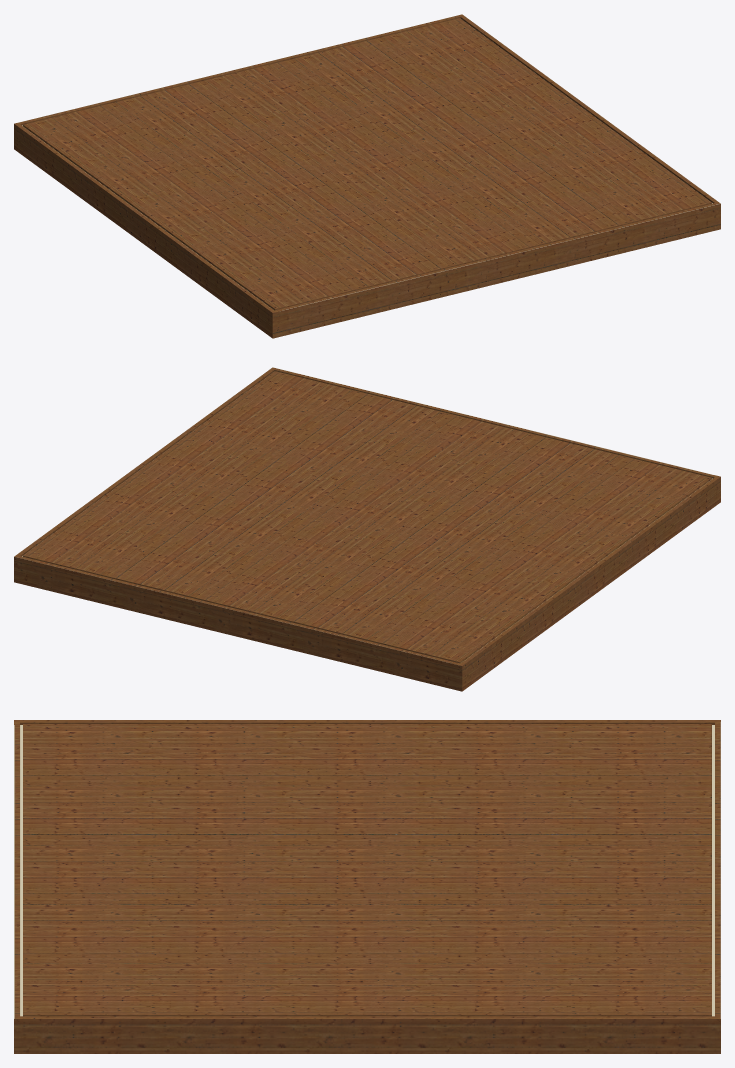
3 renders of one model, top to bottom at view 1: azimuth 30°, elevation 25°; view 2: azimuth 150°, elevation 25°; view 3: azimuth 270°, elevation 25°, orthographic. The views are drawn at different scales.
Visible parts, largest first — view 1: Base_Baked; view 2: Base_Baked; view 3: Base_Baked.
Boxes of the visible parts, bbox=[...] form: Base_Baked: bbox=[14, 14, 720, 338]; Base_Baked: bbox=[14, 367, 720, 691]; Base_Baked: bbox=[14, 720, 720, 1053].
Bounding box in the file's own units: 1100 × 60 × 1100.
1 material, 1 textured.
